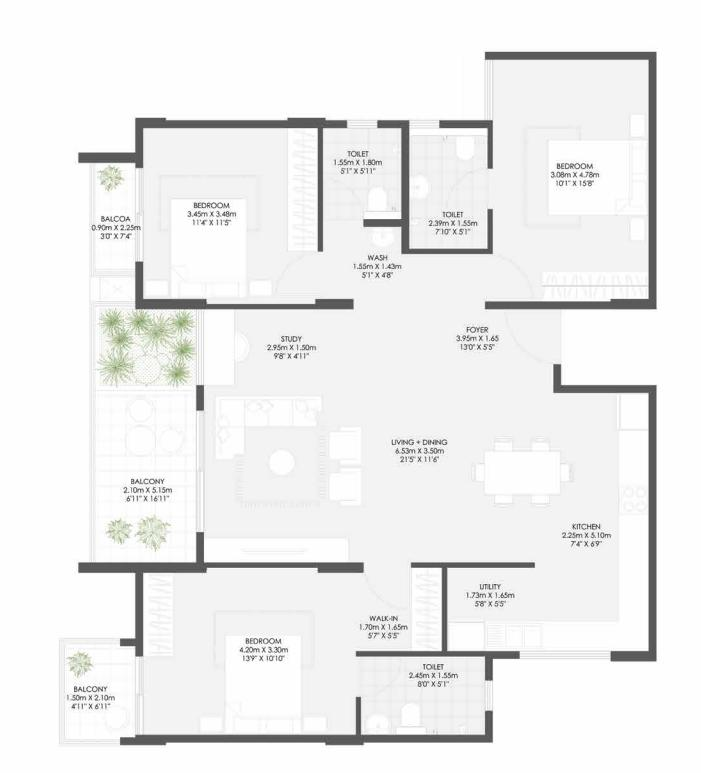Balcony: (90, 299, 197, 567), (64, 640, 139, 740)
Bed: (169, 190, 250, 301), (542, 137, 655, 214), (224, 632, 305, 738)
Bedroom: (490, 62, 649, 299), (146, 573, 354, 736), (142, 129, 318, 303)
Dining Room: (426, 396, 577, 558)
Dining table: (462, 429, 575, 521)
Foyer: (358, 308, 557, 390)
Kitchen: (549, 398, 654, 654)
Living Room: (197, 399, 423, 566)
Sofa: (212, 395, 322, 429), (330, 430, 362, 508), (210, 400, 252, 456), (270, 449, 294, 477)
Wardrobe: (284, 124, 322, 251), (544, 269, 653, 306), (144, 575, 176, 664), (415, 567, 443, 652)
balcoa: (76, 159, 141, 278)
commode: (401, 703, 422, 730), (367, 188, 387, 213)
door: (495, 306, 556, 363), (263, 247, 321, 297), (488, 255, 536, 306), (360, 569, 415, 610)
sink: (485, 623, 546, 651), (368, 715, 394, 735), (371, 229, 395, 250), (409, 175, 427, 198)
stove: (620, 488, 651, 514)
study: (198, 310, 354, 390)
toilet: (353, 656, 490, 737), (321, 129, 402, 220)
tv: (197, 530, 353, 562)
utility: (446, 567, 549, 649)
walkin: (352, 566, 442, 656)
